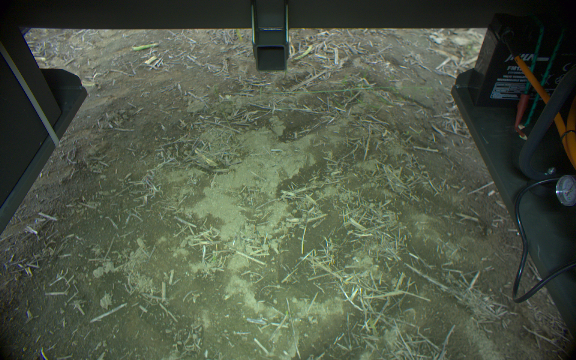aspa: (292, 42, 314, 61), (129, 38, 161, 51)
